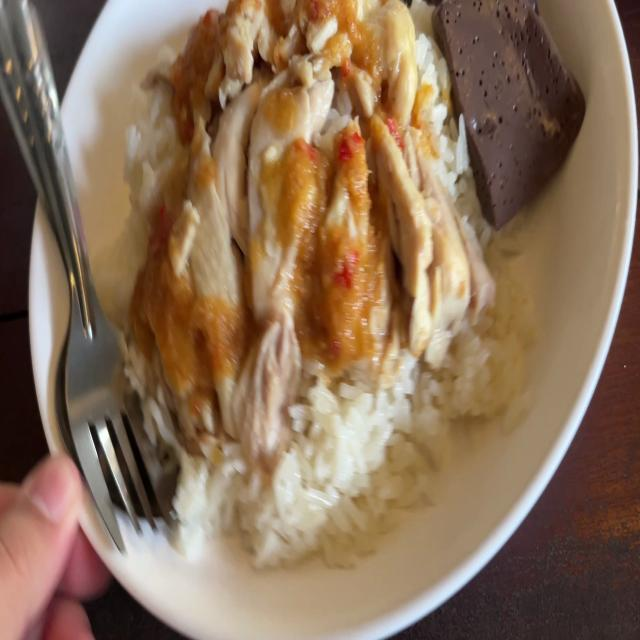boiled_chicken: (132, 0, 446, 374)
boiled_chicken_blood_jelly: (450, 0, 571, 205)
chicken_rice: (109, 0, 566, 554)
